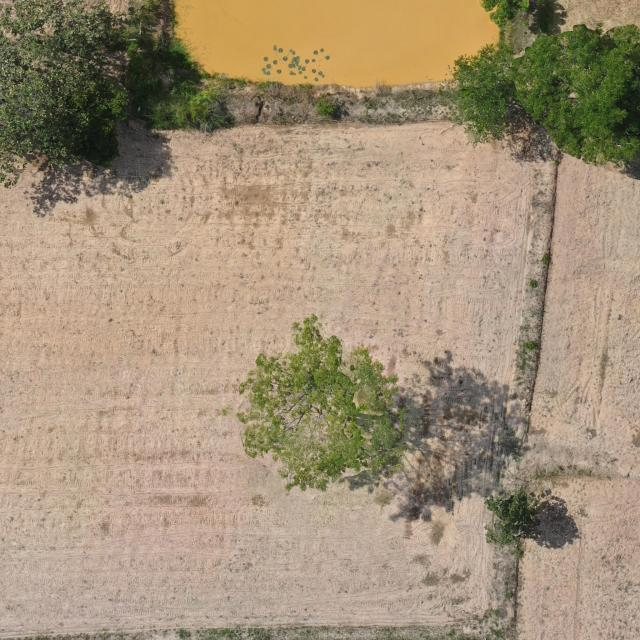Tree: (236, 312, 407, 496), (0, 0, 142, 189), (512, 24, 640, 175), (438, 40, 518, 149), (483, 486, 542, 558), (480, 0, 542, 28)
